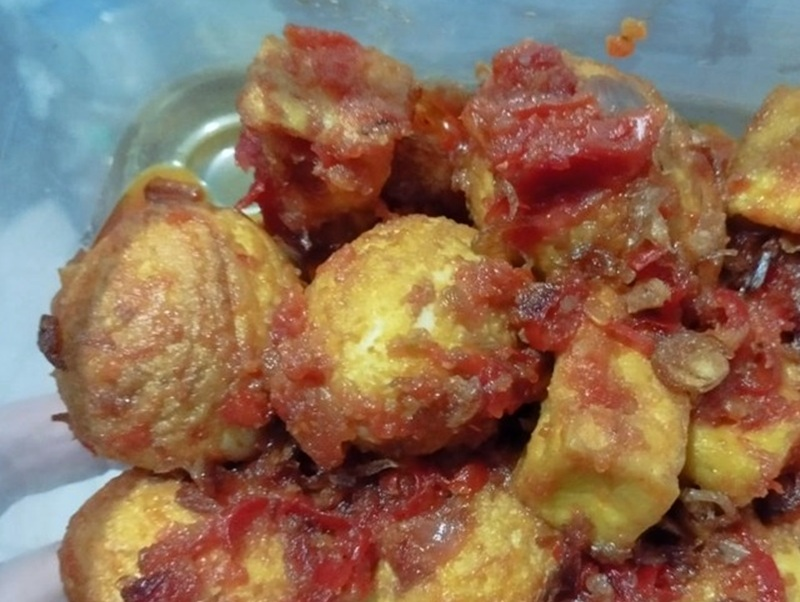Telur Balado: (205, 122, 792, 596)
